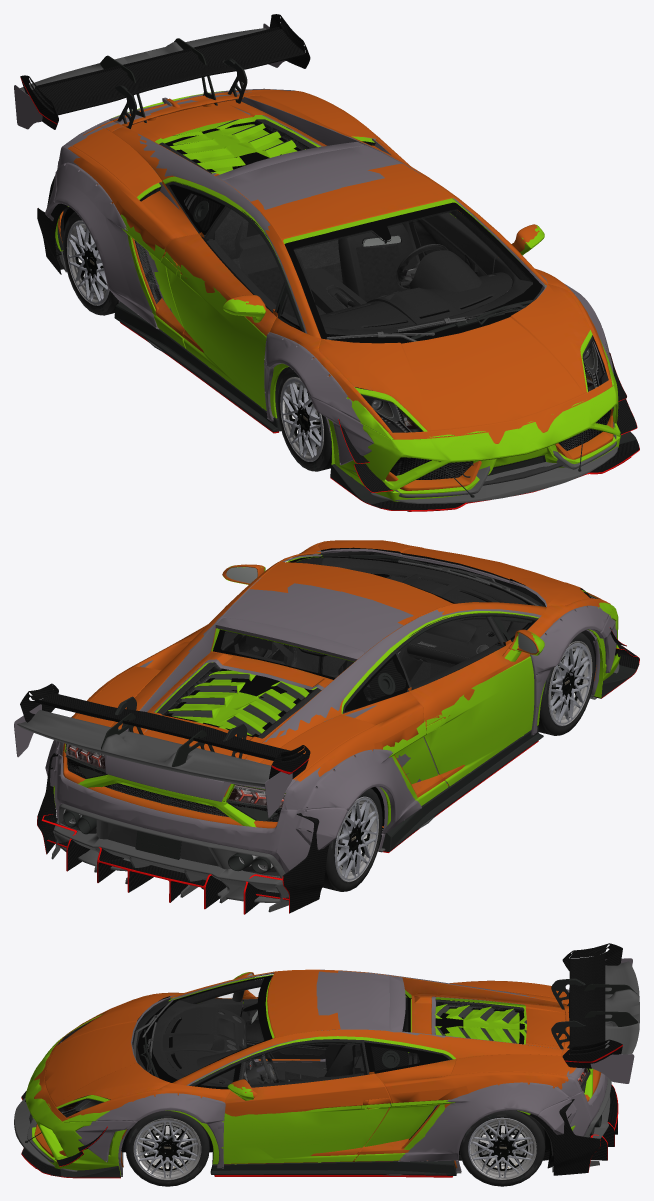
Rendered from gallardomain.glb.
The picture shows the model from 3 angles, top to bottom: view 1: azimuth 30°, elevation 25°; view 2: azimuth 150°, elevation 25°; view 3: azimuth 270°, elevation 25°; orthographic projection. The views are drawn at different scales.
Visible parts, largest first — view 1: stockbody, body1, body2, gallardo_int:LOD_A_INT_DOOR_LEFT_mm_mat01_mat01_0, gallardo:LOD_A_BOOT_mm_windows_black_glass_0, gallardo:LOD_A_BONNETCAM_BODY_mm_misc_gallardo:Vehicle_Exter, gallardo_int:LOD_A_INT_INTERIOR_mm_mat04_mat04_0, gallardo_int:LOD_A_INT_DOOR_LEFT_mm_mat06_mat06_0, wheel_set_stock, gallardo:LOD_A_TYRE_mm_tyre_gallardo:Vehicle_Exterior_mm_tyr, gallardo:LOD_A_BODY_mm_lights_gallardo:Vehicle_Exterior_mm_l, rim_set1 (+2 smaller); view 2: body2, body1, stockbody, gallardo_int:LOD_A_INT_DOOR_LEFT_mm_mat01_mat01_0, gallardo:LOD_A_BONNETCAM_BODY_mm_misc_gallardo:Vehicle_Exter, wheel_set_stock, gallardo:LOD_A_BOOT_mm_windows_black_glass_0, gallardo:LOD_A_TYRE_mm_tyre_gallardo:Vehicle_Exterior_mm_tyr, rim_set1, gallardo:LOD_A_BODY_mm_lights_gallardo:Vehicle_Exterior_mm_l, rim_set3, gallardo_int:LOD_A_INT_INTERIOR_mm_mat03_mat03_0 (+2 smaller); view 3: stockbody, body1, body2, gallardo_int:LOD_A_INT_DOOR_LEFT_mm_mat01_mat01_0, gallardo:LOD_A_TYRE_mm_tyre_gallardo:Vehicle_Exterior_mm_tyr, gallardo:LOD_A_BOOT_mm_windows_black_glass_0, rim_set1, wheel_set_stock, gallardo:LOD_A_BONNETCAM_BODY_mm_misc_gallardo:Vehicle_Exter, rim_set3, gallardo_int:LOD_A_INT_INTERIOR_mm_mat04_mat04_0, gallardo_int:LOD_A_INT_DOOR_LEFT_mm_int_phong3_0 (+3 smaller).
Boxes of the visible parts, x1=… form: stockbody: x1=58, y1=89, x2=613, y2=490; body1: x1=20, y1=14, x2=639, y2=511; body2: x1=14, y1=23, x2=618, y2=503; gallardo_int:LOD_A_INT_DOOR_LEFT_mm_mat01_mat01_0: x1=205, y1=207, x2=532, y2=335; gallardo:LOD_A_BOOT_mm_windows_black_glass_0: x1=165, y1=121, x2=542, y2=343; gallardo:LOD_A_BONNETCAM_BODY_mm_misc_gallardo:Vehicle_Exter: x1=60, y1=119, x2=610, y2=485; gallardo_int:LOD_A_INT_INTERIOR_mm_mat04_mat04_0: x1=184, y1=193, x2=531, y2=315; gallardo_int:LOD_A_INT_DOOR_LEFT_mm_mat06_mat06_0: x1=248, y1=218, x2=465, y2=317; wheel_set_stock: x1=67, y1=220, x2=322, y2=461; gallardo:LOD_A_TYRE_mm_tyre_gallardo:Vehicle_Exterior_mm_tyr: x1=63, y1=212, x2=331, y2=471; gallardo:LOD_A_BODY_mm_lights_gallardo:Vehicle_Exterior_mm_l: x1=361, y1=335, x2=608, y2=432; rim_set1: x1=66, y1=221, x2=323, y2=461; body2: x1=14, y1=548, x2=619, y2=912; body1: x1=20, y1=553, x2=639, y2=914; stockbody: x1=62, y1=540, x2=610, y2=870; gallardo_int:LOD_A_INT_DOOR_LEFT_mm_mat01_mat01_0: x1=221, y1=557, x2=528, y2=697; gallardo:LOD_A_BONNETCAM_BODY_mm_misc_gallardo:Vehicle_Exter: x1=61, y1=551, x2=595, y2=876; wheel_set_stock: x1=334, y1=643, x2=591, y2=882; gallardo:LOD_A_BOOT_mm_windows_black_glass_0: x1=166, y1=556, x2=534, y2=737; gallardo:LOD_A_TYRE_mm_tyre_gallardo:Vehicle_Exterior_mm_tyr: x1=322, y1=632, x2=595, y2=891; rim_set1: x1=335, y1=641, x2=592, y2=881; gallardo:LOD_A_BODY_mm_lights_gallardo:Vehicle_Exterior_mm_l: x1=66, y1=595, x2=595, y2=807; rim_set3: x1=338, y1=648, x2=583, y2=869; gallardo_int:LOD_A_INT_INTERIOR_mm_mat03_mat03_0: x1=311, y1=654, x2=448, y2=685; stockbody: x1=34, y1=969, x2=600, y2=1168; body1: x1=21, y1=943, x2=622, y2=1178; body2: x1=14, y1=958, x2=639, y2=1176; gallardo_int:LOD_A_INT_DOOR_LEFT_mm_mat01_mat01_0: x1=152, y1=998, x2=367, y2=1087; gallardo:LOD_A_TYRE_mm_tyre_gallardo:Vehicle_Exterior_mm_tyr: x1=125, y1=1110, x2=545, y2=1186; gallardo:LOD_A_BOOT_mm_windows_black_glass_0: x1=137, y1=975, x2=524, y2=1089; rim_set1: x1=133, y1=1118, x2=536, y2=1179; wheel_set_stock: x1=134, y1=1117, x2=533, y2=1180; gallardo:LOD_A_BONNETCAM_BODY_mm_misc_gallardo:Vehicle_Exter: x1=29, y1=981, x2=553, y2=1168; rim_set3: x1=140, y1=1123, x2=530, y2=1170; gallardo_int:LOD_A_INT_INTERIOR_mm_mat04_mat04_0: x1=181, y1=979, x2=419, y2=1075; gallardo_int:LOD_A_INT_DOOR_LEFT_mm_int_phong3_0: x1=168, y1=990, x2=360, y2=1084.
Size of the model in its own units: 12.72 by 7.17 by 27.65.
31 materials, 31 textured.
